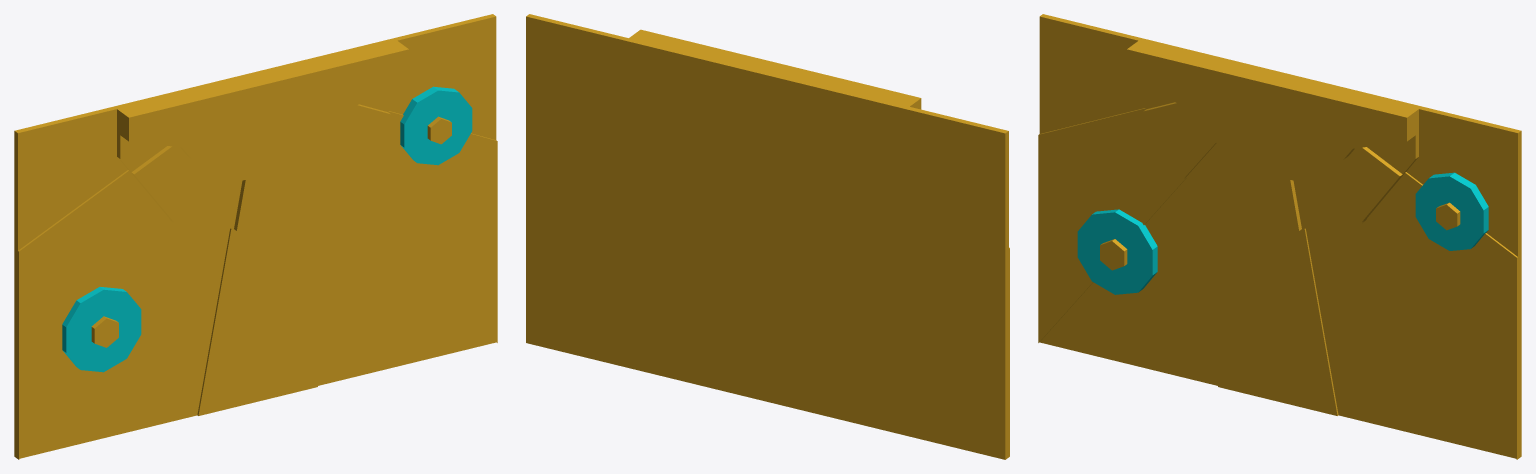
Rendered from Prop_Jungle_Temple_Ornament_Sun_Plaque_Gold_Gem_03.FBX.
3 renders of one model, left to right at view 1: azimuth 30°, elevation 25°; view 2: azimuth 150°, elevation 25°; view 3: azimuth 330°, elevation 25°, orthographic.
Parts seen in each view (by area): view 1: Prop_Jungle_Temple_Ornament_Sun_Plaque_Gold_Gem_03; view 2: Prop_Jungle_Temple_Ornament_Sun_Plaque_Gold_Gem_03; view 3: Prop_Jungle_Temple_Ornament_Sun_Plaque_Gold_Gem_03.
Boxes of the visible parts, x1,y1,x2,y2 form: Prop_Jungle_Temple_Ornament_Sun_Plaque_Gold_Gem_03: (14,14,497,459); Prop_Jungle_Temple_Ornament_Sun_Plaque_Gold_Gem_03: (526,14,1009,459); Prop_Jungle_Temple_Ornament_Sun_Plaque_Gold_Gem_03: (1038,14,1521,459).
Size of the model in its own units: 1415 by 921 by 78.1.
